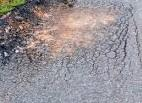alligator-crack: (67, 0, 142, 79)
pothole: (17, 1, 126, 64)
